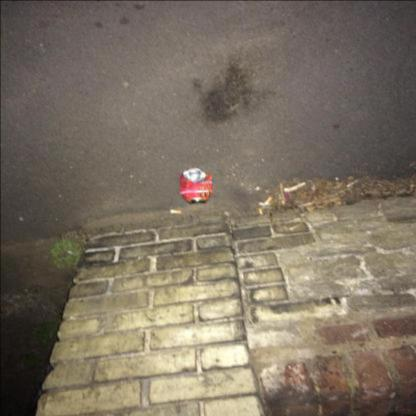Can: (180, 168, 213, 203)
Cigarette: (264, 197, 272, 204), (171, 209, 181, 213)
